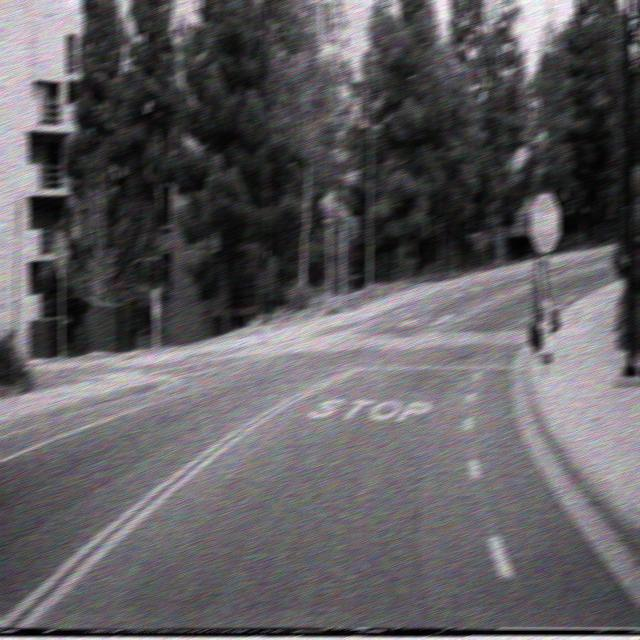stop_sign: (528, 191, 561, 253)
